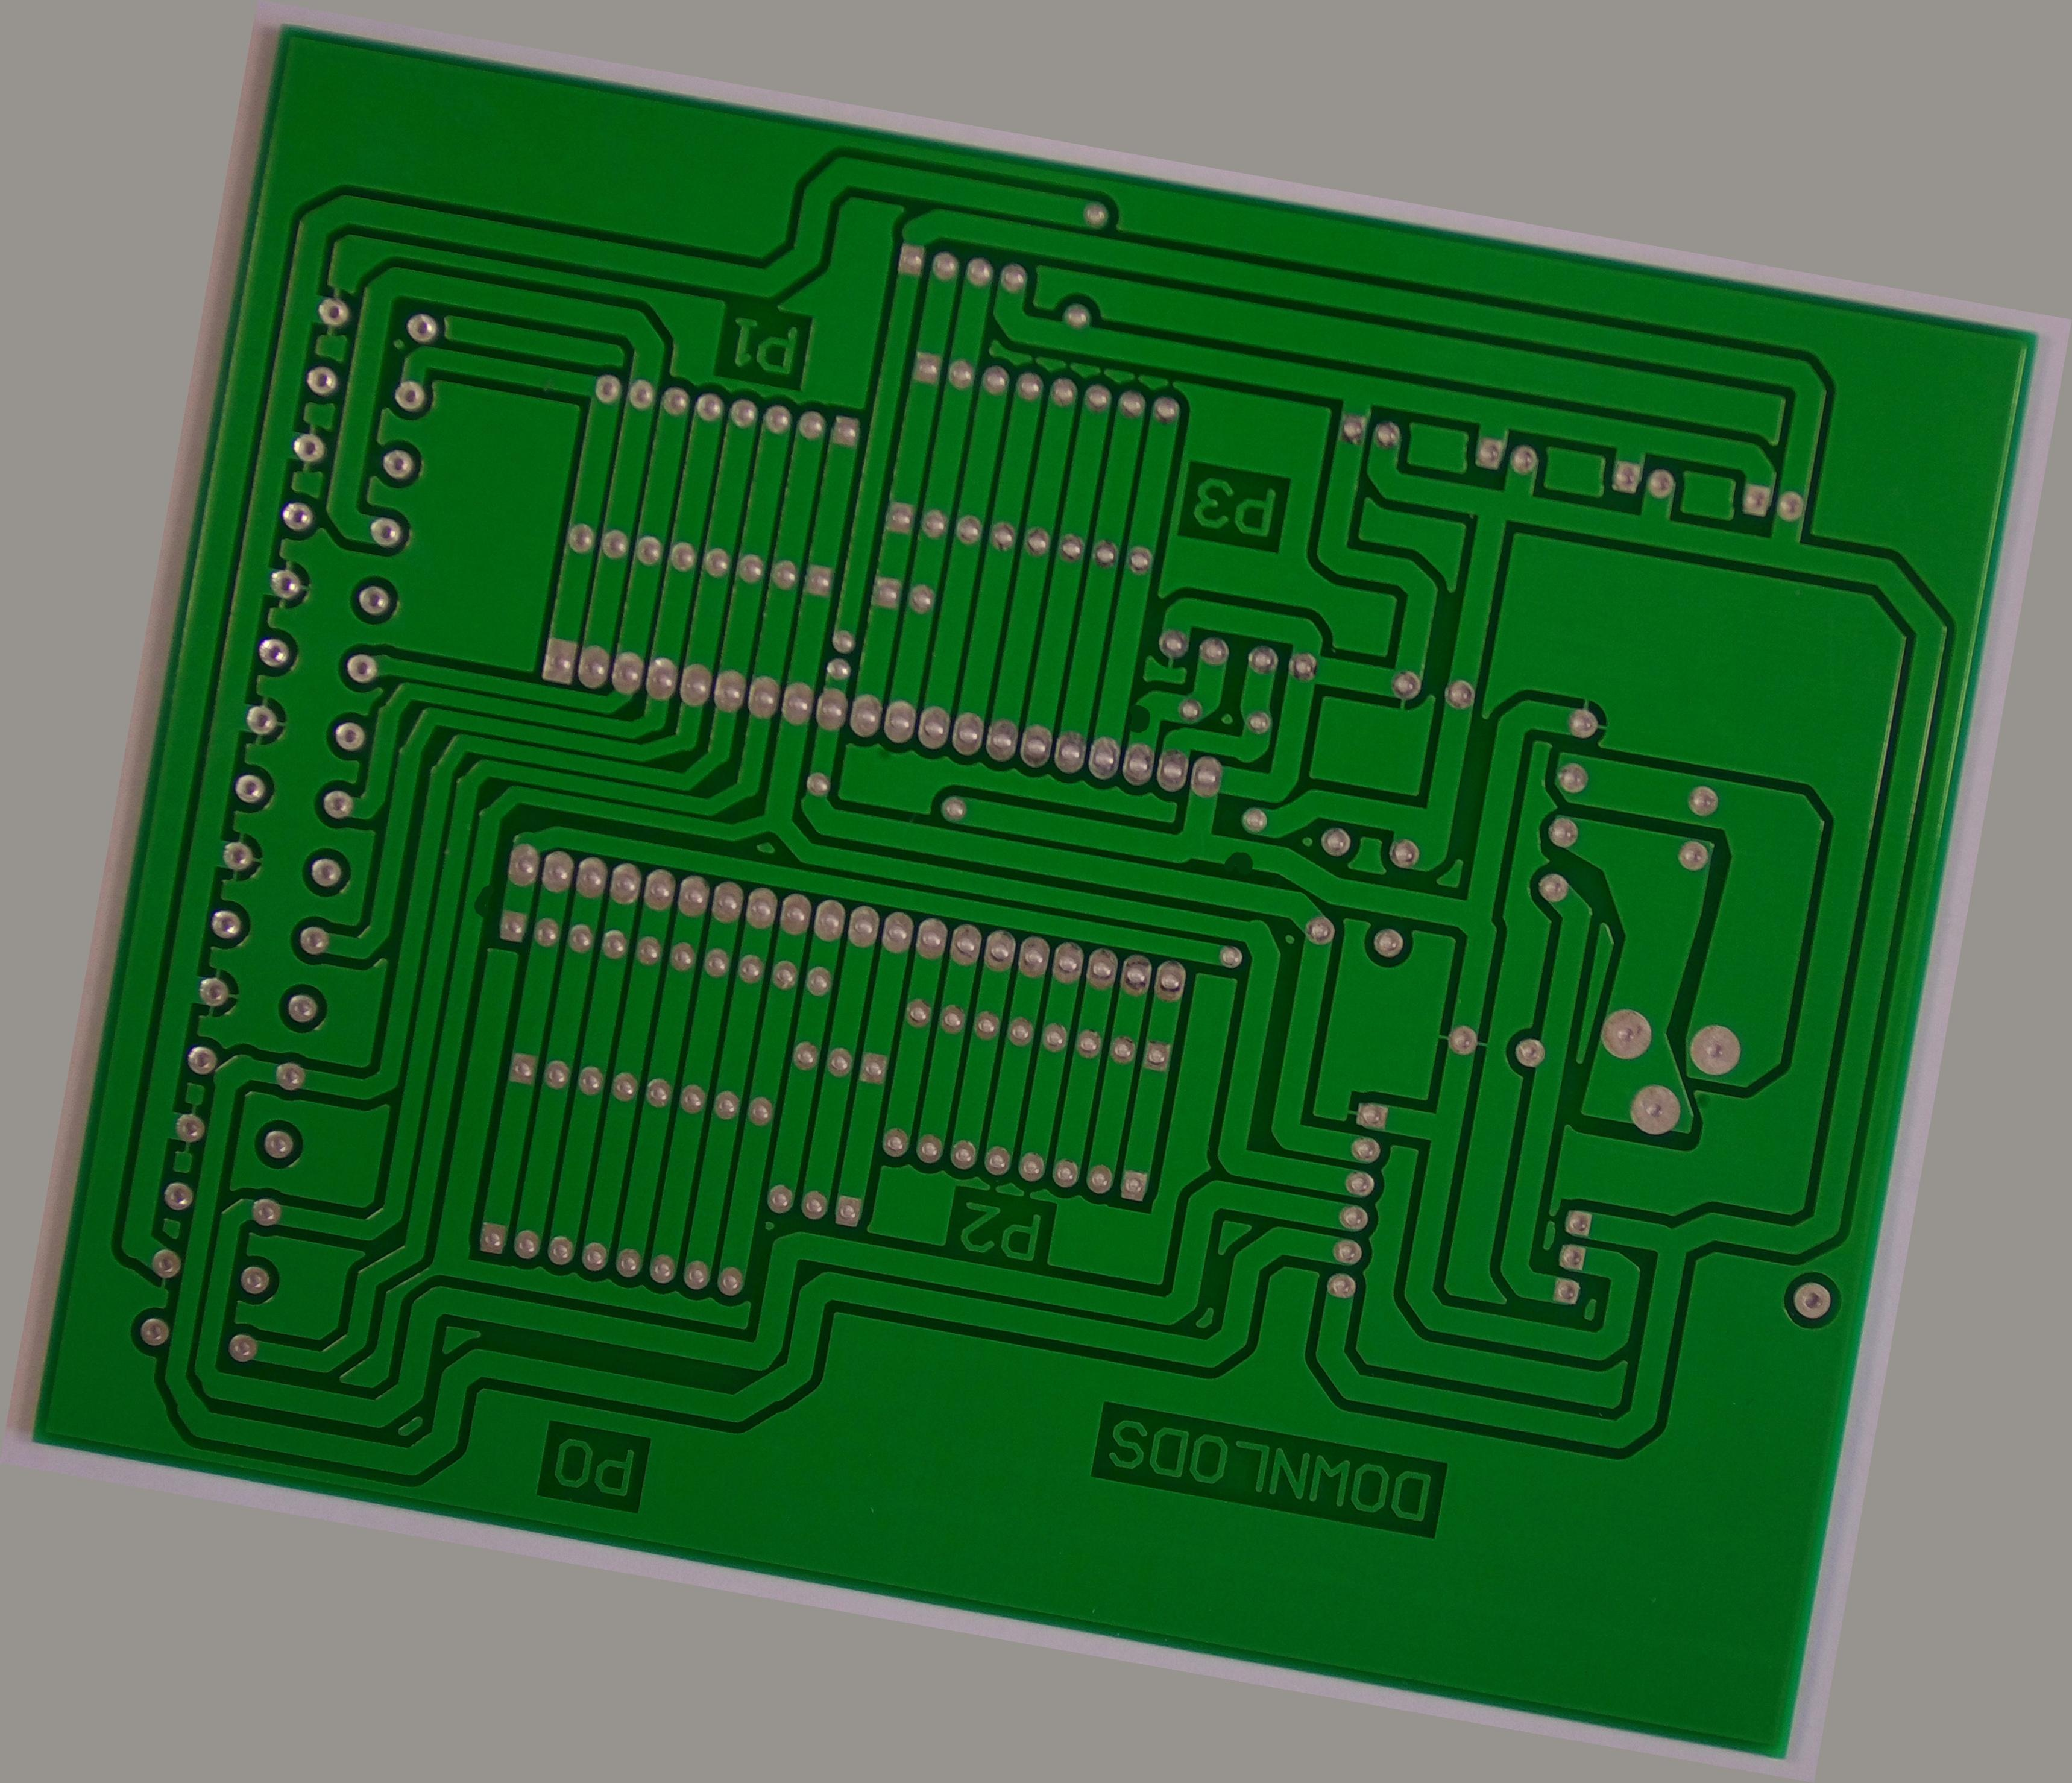mouse_bite: (1226, 786, 1281, 832), (402, 988, 444, 1047), (1101, 643, 1138, 692)
